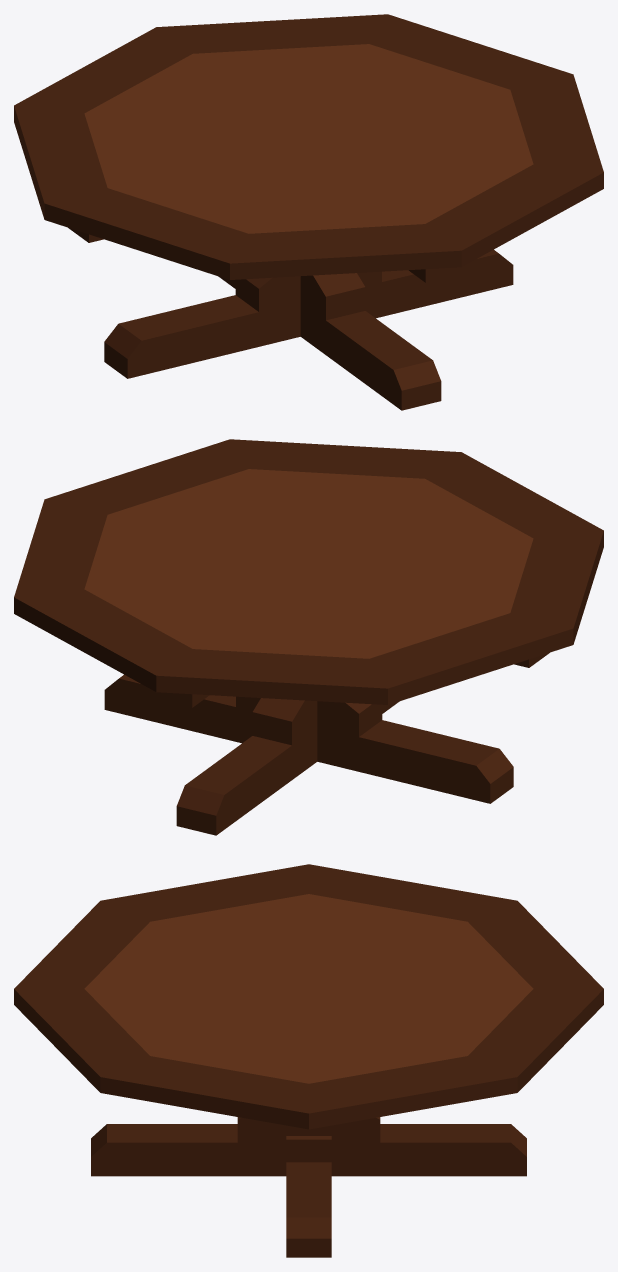
Rendered from Table-Round-Wooden-Classical_01.fbx.
3 views of the same model, one above another, from view 1: azimuth 30°, elevation 25°; view 2: azimuth 150°, elevation 25°; view 3: azimuth 270°, elevation 25° (orthographic). The views are drawn at different scales.
Visible parts, largest first — view 1: Table_Round_01; view 2: Table_Round_01; view 3: Table_Round_01.
Part boxes in pixels (x1,y1,x2,y2): Table_Round_01: [14, 14, 603, 410]; Table_Round_01: [14, 439, 603, 835]; Table_Round_01: [14, 864, 603, 1257].
Size of the model in its own units: 2.4 by 0.7993 by 2.4.
